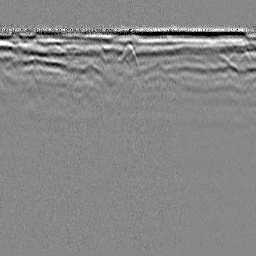cavity: (118, 42, 139, 67)
